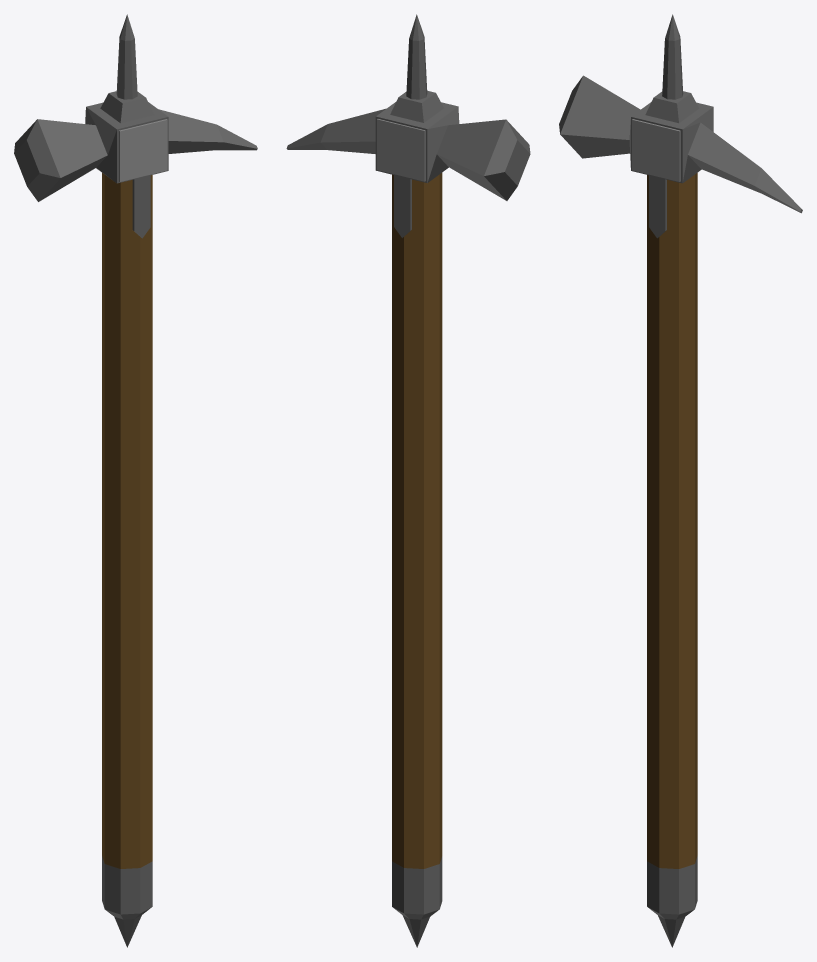
The model's file is WarHammer.fbx.
3 renders of one model, left to right at view 1: azimuth 30°, elevation 25°; view 2: azimuth 150°, elevation 25°; view 3: azimuth 330°, elevation 25°, orthographic.
Parts seen in each view (by area): view 1: Warhammer; view 2: Warhammer; view 3: Warhammer.
Part boxes in pixels (x1=…): Warhammer: x1=14, y1=14, x2=257, y2=947; Warhammer: x1=286, y1=14, x2=530, y2=947; Warhammer: x1=559, y1=14, x2=802, y2=947.
Bounding box in the file's own units: 25.17 × 97.76 × 8.64.
